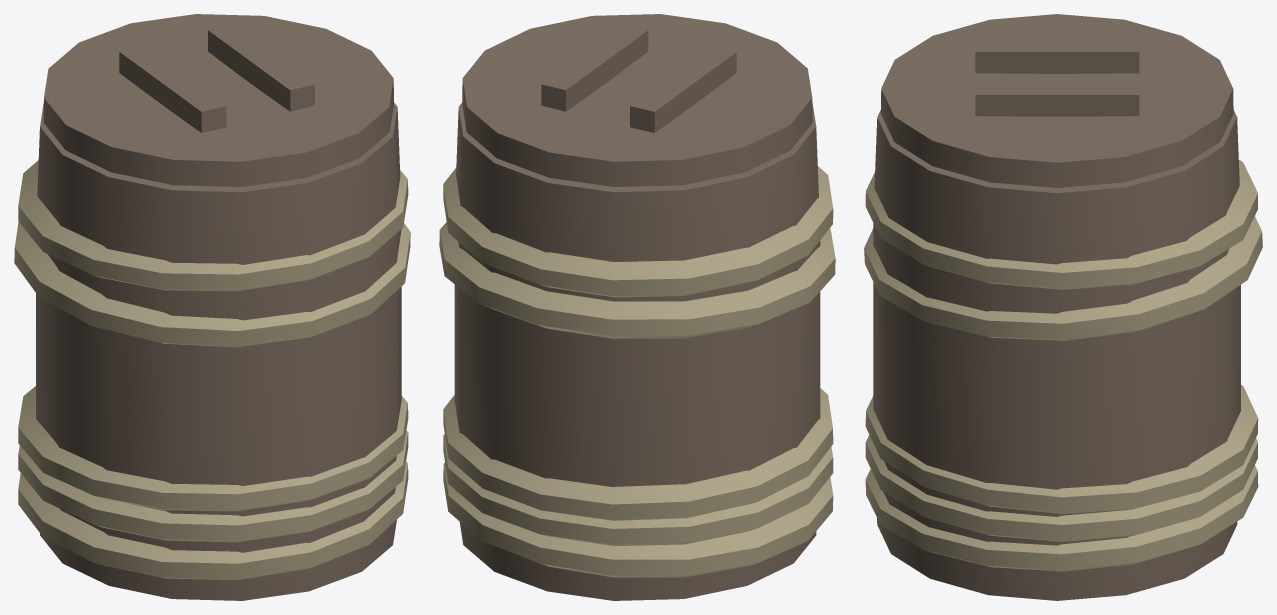
File: props_barrrel_single_001.fbx
3 views of the same model, side by side, from view 1: azimuth 30°, elevation 25°; view 2: azimuth 150°, elevation 25°; view 3: azimuth 270°, elevation 25° (orthographic).
Parts seen in each view (by area): view 1: polySurface35, polySurface36, pTorus5, pTorus4, pTorus1, pTorus3, pTorus2, pCube107, pCube108; view 2: polySurface35, polySurface36, pTorus5, pTorus4, pTorus3, pTorus1, pTorus2, pCube107, pCube108; view 3: polySurface35, polySurface36, pTorus5, pTorus4, pTorus3, pTorus1, pTorus2, pCube108, pCube107.
Boxes of the visible parts, box(x1,y1,x2,y2) form: polySurface35: box(36, 102, 401, 600); polySurface36: box(43, 14, 393, 186); pTorus5: box(14, 222, 410, 347); pTorus4: box(18, 160, 408, 291); pTorus1: box(18, 461, 408, 580); pTorus3: box(18, 386, 408, 511); pTorus2: box(18, 430, 408, 542); pCube107: box(208, 24, 314, 111); pCube108: box(119, 46, 226, 132); polySurface35: box(454, 102, 820, 600); polySurface36: box(462, 14, 812, 186); pTorus5: box(439, 222, 835, 338); pTorus4: box(443, 166, 833, 297); pTorus3: box(443, 388, 833, 520); pTorus1: box(443, 462, 833, 577); pTorus2: box(443, 434, 833, 546); pCube107: box(541, 24, 648, 111); pCube108: box(630, 46, 736, 132); polySurface35: box(873, 110, 1240, 600); polySurface36: box(880, 14, 1233, 187); pTorus5: box(864, 216, 1262, 340); pTorus4: box(865, 160, 1257, 289); pTorus3: box(865, 385, 1258, 513); pTorus1: box(865, 465, 1258, 571); pTorus2: box(865, 435, 1257, 541); pCube108: box(975, 40, 1139, 73); pCube107: box(975, 83, 1139, 116).
Bounding box in the file's own units: 96.45 × 122 × 96.54.
